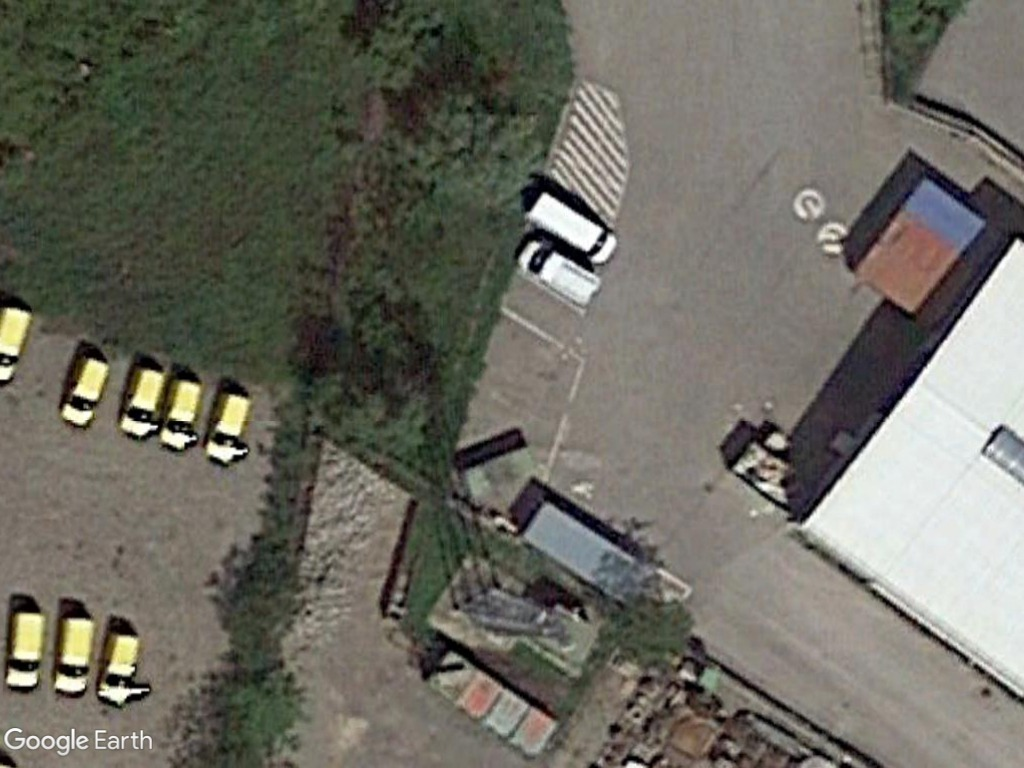van: (524, 188, 619, 268), (515, 237, 605, 315), (2, 605, 50, 694), (59, 351, 115, 427), (118, 363, 169, 440), (51, 612, 97, 697), (204, 391, 254, 467), (157, 373, 203, 454), (94, 629, 143, 705)
